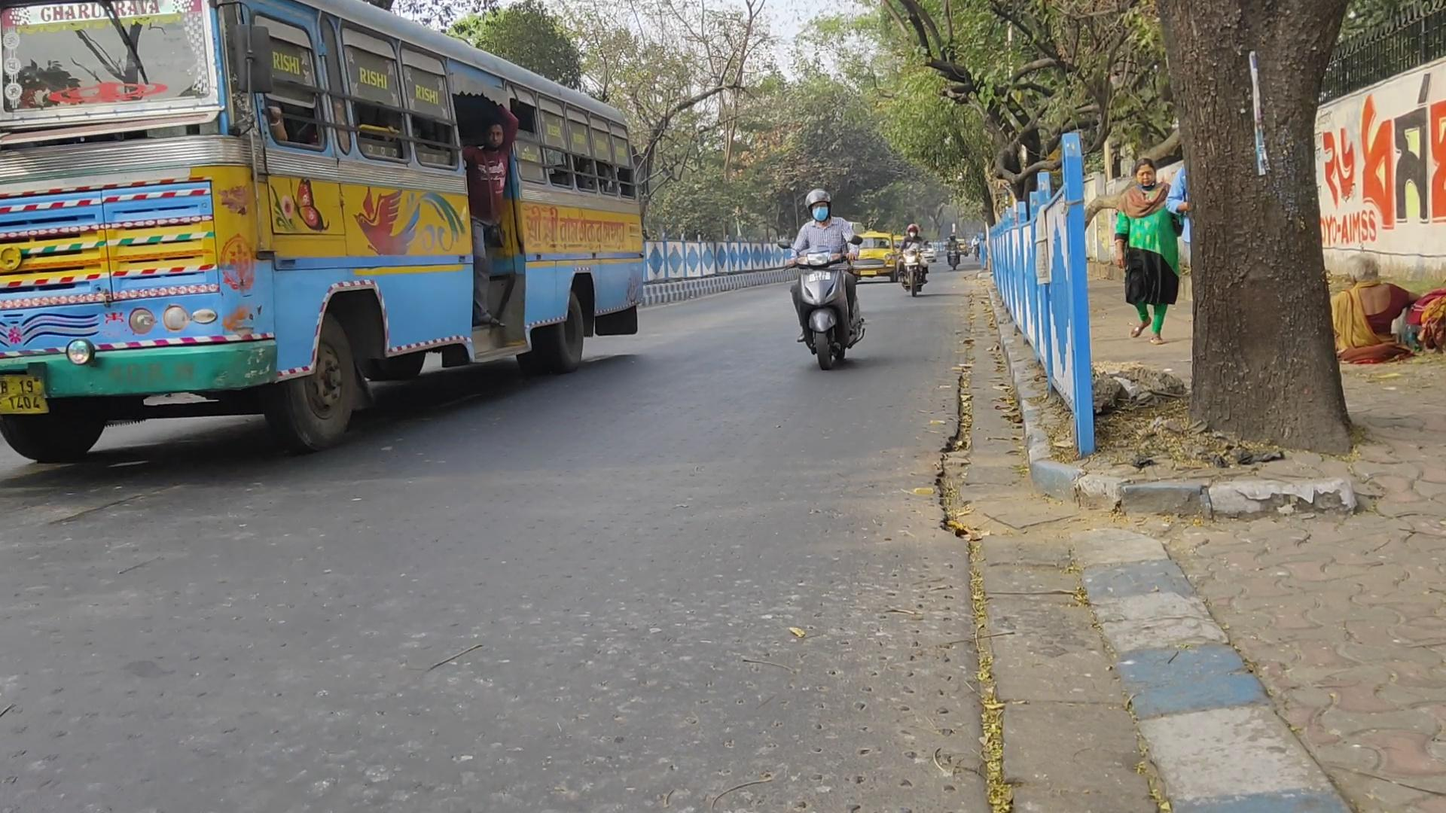Bus: (5, 2, 645, 453)
bike: (787, 190, 865, 370), (900, 222, 929, 298), (943, 234, 964, 271)
car: (850, 230, 898, 285)
